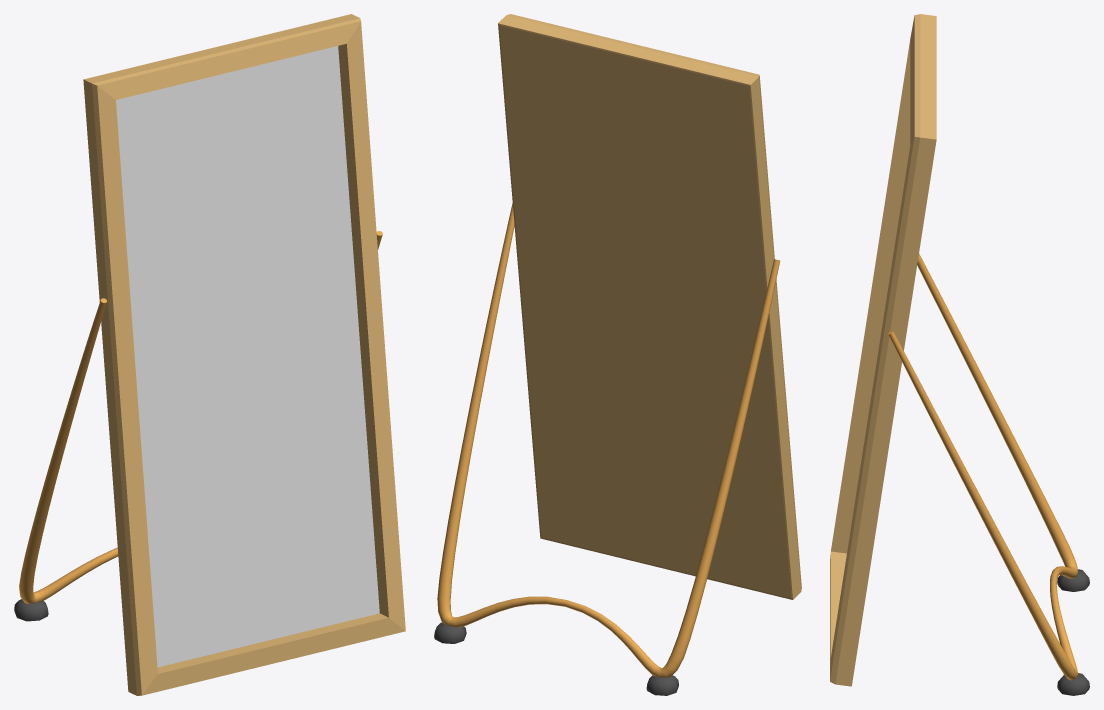
File: spiegel.fbx
3 renders of one model, left to right at view 1: azimuth 30°, elevation 25°; view 2: azimuth 150°, elevation 25°; view 3: azimuth 270°, elevation 25°, orthographic. The views are drawn at different scales.
Parts seen in each view (by area): view 1: Cube, Arc, Cube.002; view 2: Cube, Arc, Cube.002; view 3: Cube, Arc, Cube.001, Cube.002.
Part boxes in pixels (x1,y1,x2,y2): Cube: [83, 14, 405, 695]; Arc: [19, 231, 382, 603]; Cube.002: [14, 599, 48, 621]; Cube: [498, 14, 801, 599]; Arc: [437, 203, 779, 677]; Cube.002: [646, 675, 678, 695]; Cube: [830, 14, 936, 686]; Arc: [888, 253, 1078, 680]; Cube.001: [1057, 673, 1089, 695]; Cube.002: [1057, 569, 1089, 591].
Bounding box in the file's own units: 96.28 × 194 × 81.37.
